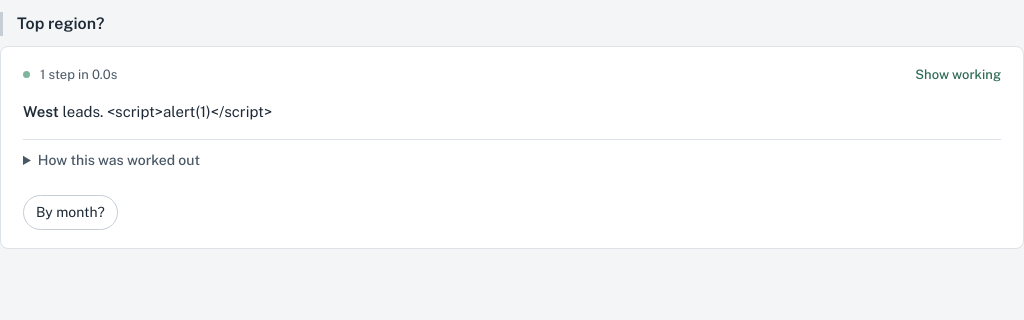
Test: AnswerBlock › reveals the working on demand
Expected: the text "SELECT 1" is not shown
Click the button "1 step in 0.0s Show working".
click(79, 74)  # box top-left (23, 65), bottom-right (1001, 84)
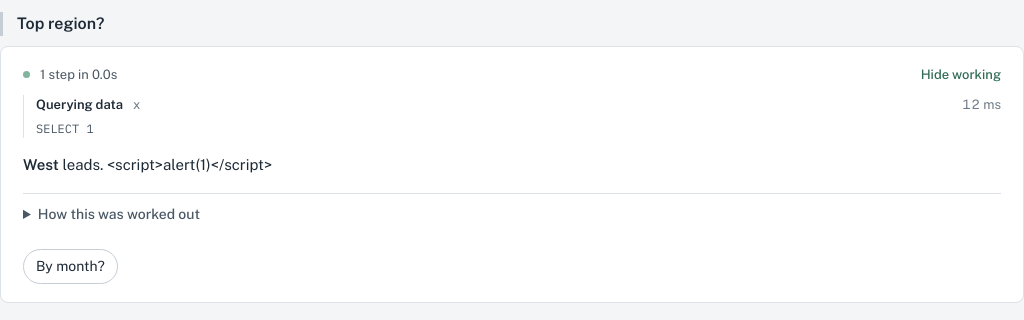
Expected: the text "SELECT 1" is shown, top-left (36, 121), bottom-right (94, 136)
